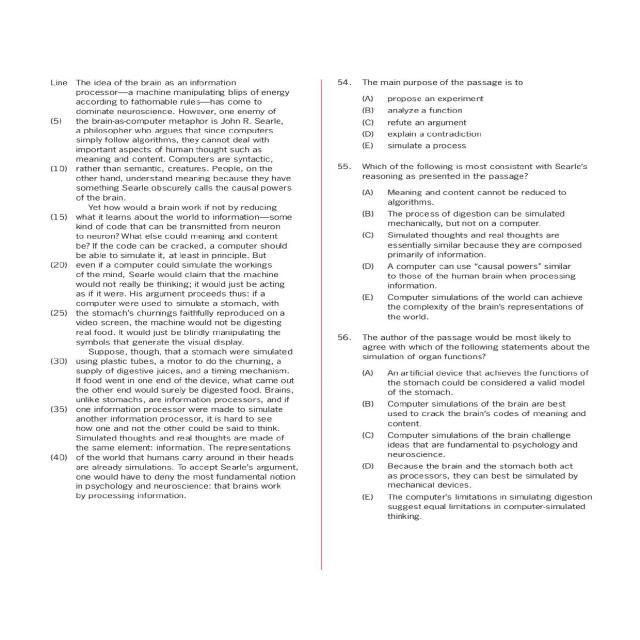Answer_Block: (326, 368, 601, 526), (326, 186, 601, 321), (326, 95, 601, 153)
Instruction: (43, 76, 318, 528)
Question_Answer_Block: (326, 327, 601, 525), (326, 156, 601, 322), (326, 76, 601, 154)
Question_Block: (326, 327, 601, 365), (326, 156, 601, 187), (326, 76, 601, 92)
Question_Paper_Area: (43, 76, 318, 528), (326, 76, 601, 526)
